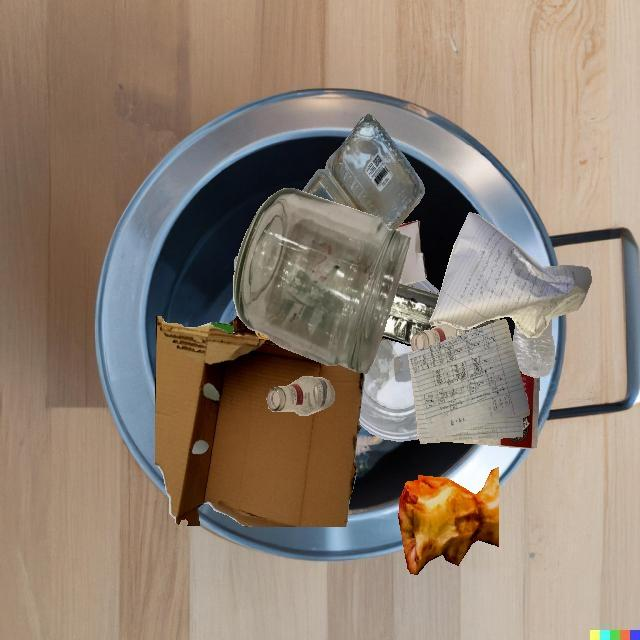biowaste: (398, 467, 499, 574)
cardboard: (155, 316, 364, 527)
glass: (234, 188, 411, 373), (267, 376, 335, 416), (411, 323, 473, 352), (233, 316, 270, 340), (228, 319, 234, 325), (381, 337, 389, 340)
paper: (429, 212, 592, 338), (408, 320, 530, 443), (449, 368, 539, 449), (396, 221, 427, 285)
plastic: (302, 114, 425, 230), (359, 339, 419, 442), (382, 282, 439, 346), (513, 319, 555, 377), (234, 255, 238, 270)
